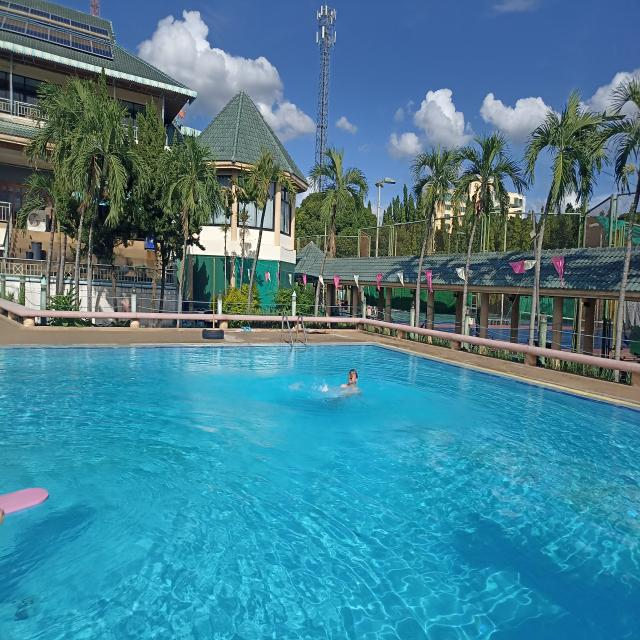Swimming: (294, 361, 371, 399)
